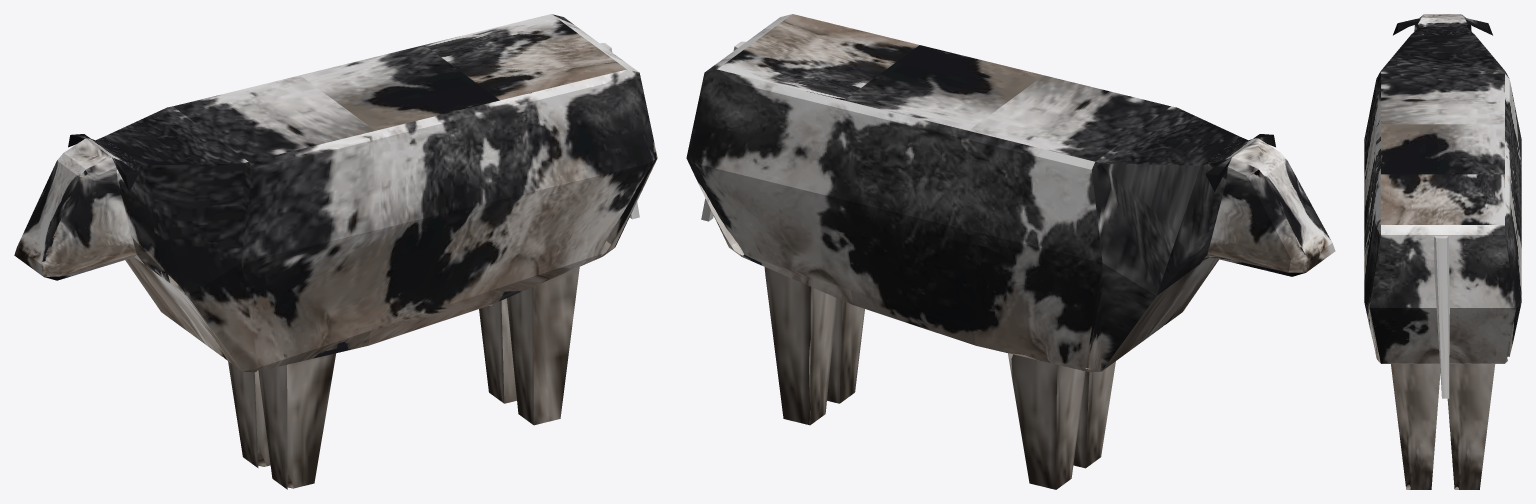
The model's file is cowhazard.fbx.
The picture shows the model from 3 angles, left to right: view 1: azimuth 30°, elevation 25°; view 2: azimuth 150°, elevation 25°; view 3: azimuth 270°, elevation 25°; orthographic projection. The views are drawn at different scales.
Parts seen in each view (by area): view 1: Cube.010; view 2: Cube.010; view 3: Cube.010.
Boxes of the visible parts, left/top/right/bottom form: Cube.010: left=14, top=14, right=657, bottom=489; Cube.010: left=686, top=14, right=1335, bottom=489; Cube.010: left=1364, top=14, right=1521, bottom=489.
Size of the model in its own units: 292 by 167 by 79.24.
Materials: 1 (1 with a texture image).
